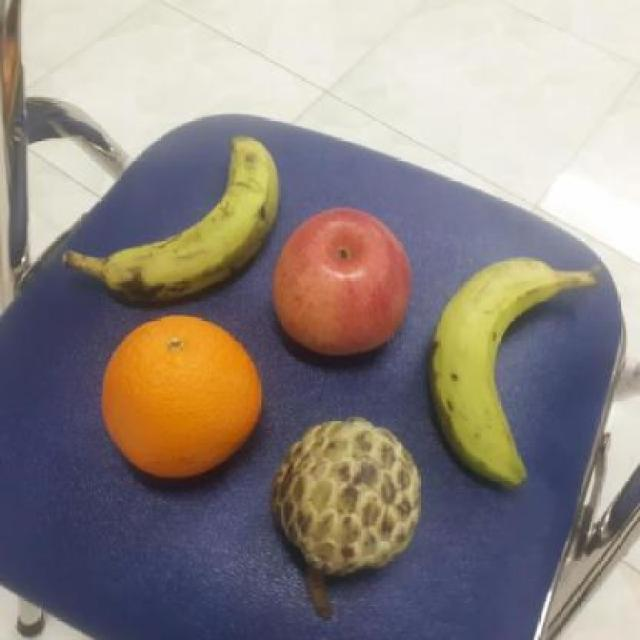apple: (270, 204, 419, 356)
banana: (422, 256, 566, 493), (101, 133, 282, 310)
oren: (96, 312, 262, 483)
sugar apple: (272, 416, 425, 572)
